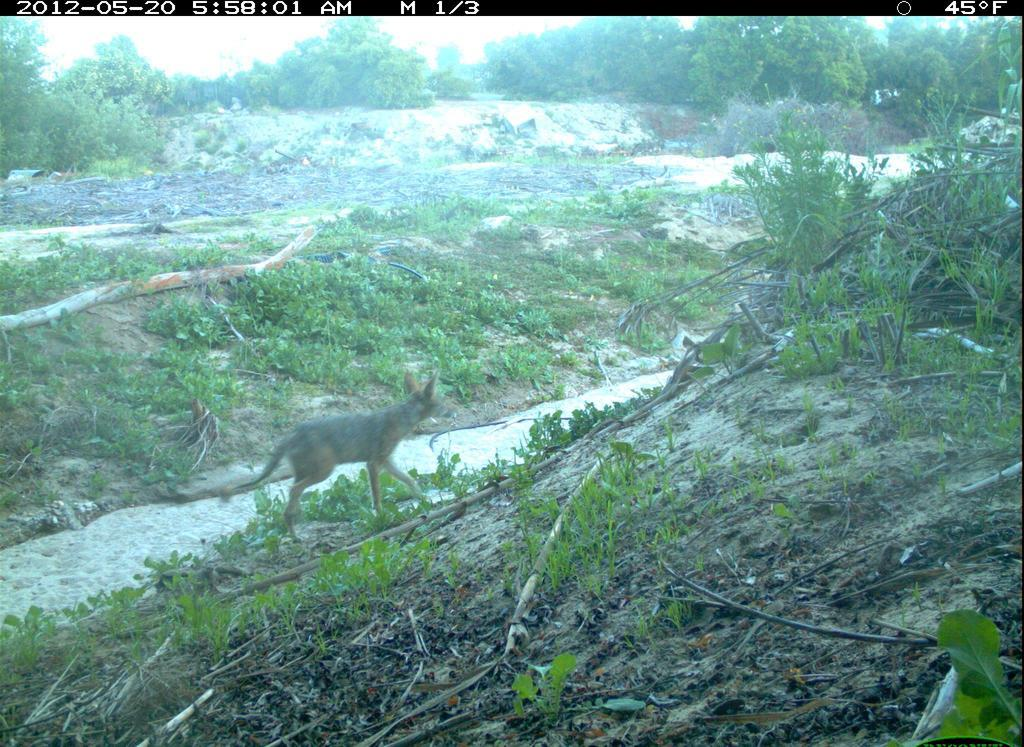coyote: (217, 365, 491, 555)
